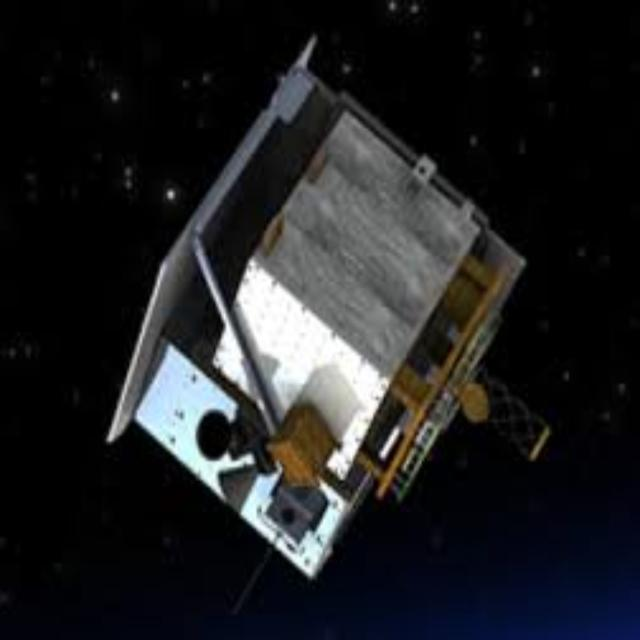satellite: (68, 36, 551, 610)
